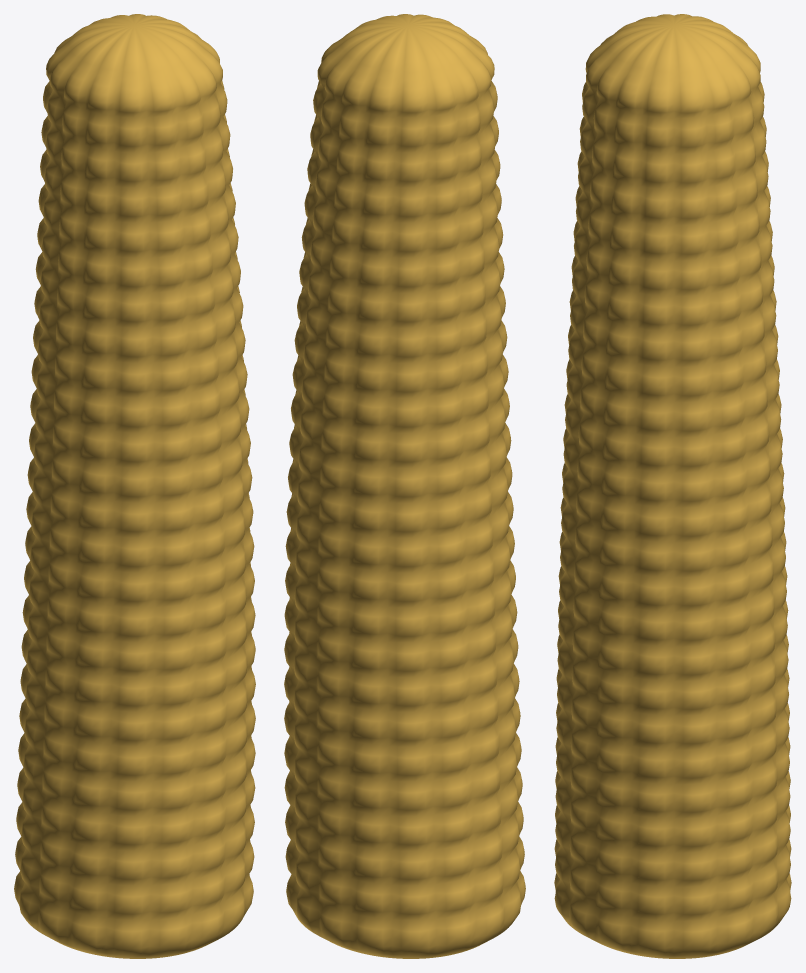
3 renders of one model, left to right at view 1: azimuth 30°, elevation 25°; view 2: azimuth 150°, elevation 25°; view 3: azimuth 270°, elevation 25°, orthographic.
Parts seen in each view (by area): view 1: Whole shucked corn cob with continuous kernel relief; view 2: Whole shucked corn cob with continuous kernel relief; view 3: Whole shucked corn cob with continuous kernel relief.
Part boxes in pixels (box(x1,y1,x2,y2)): Whole shucked corn cob with continuous kernel relief: box(14, 14, 255, 958); Whole shucked corn cob with continuous kernel relief: box(284, 14, 525, 958); Whole shucked corn cob with continuous kernel relief: box(554, 14, 791, 958).
Size of the model in its own units: 0.046 by 0.19 by 0.0454.
